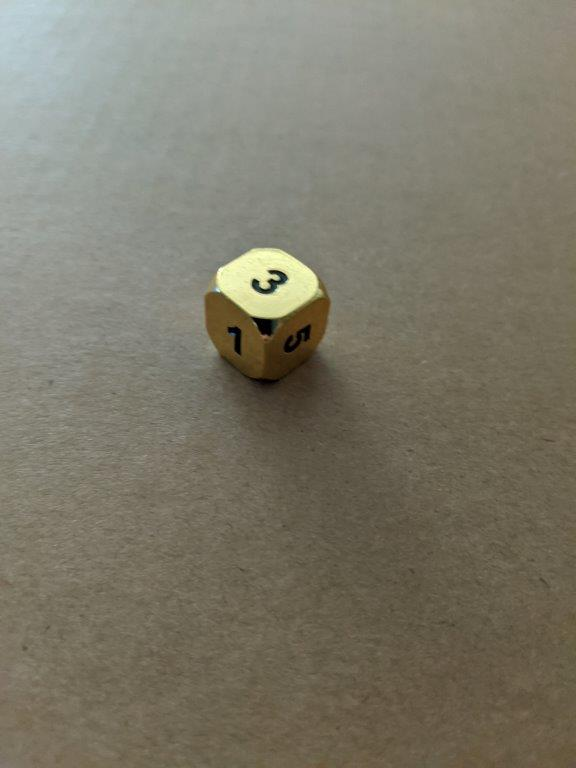d6-3: (204, 245, 333, 385)
